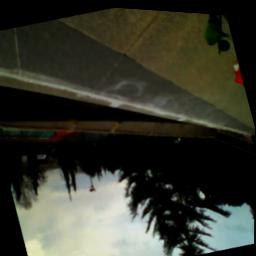herb: (196, 11, 236, 56)
wild: (230, 62, 245, 86)
